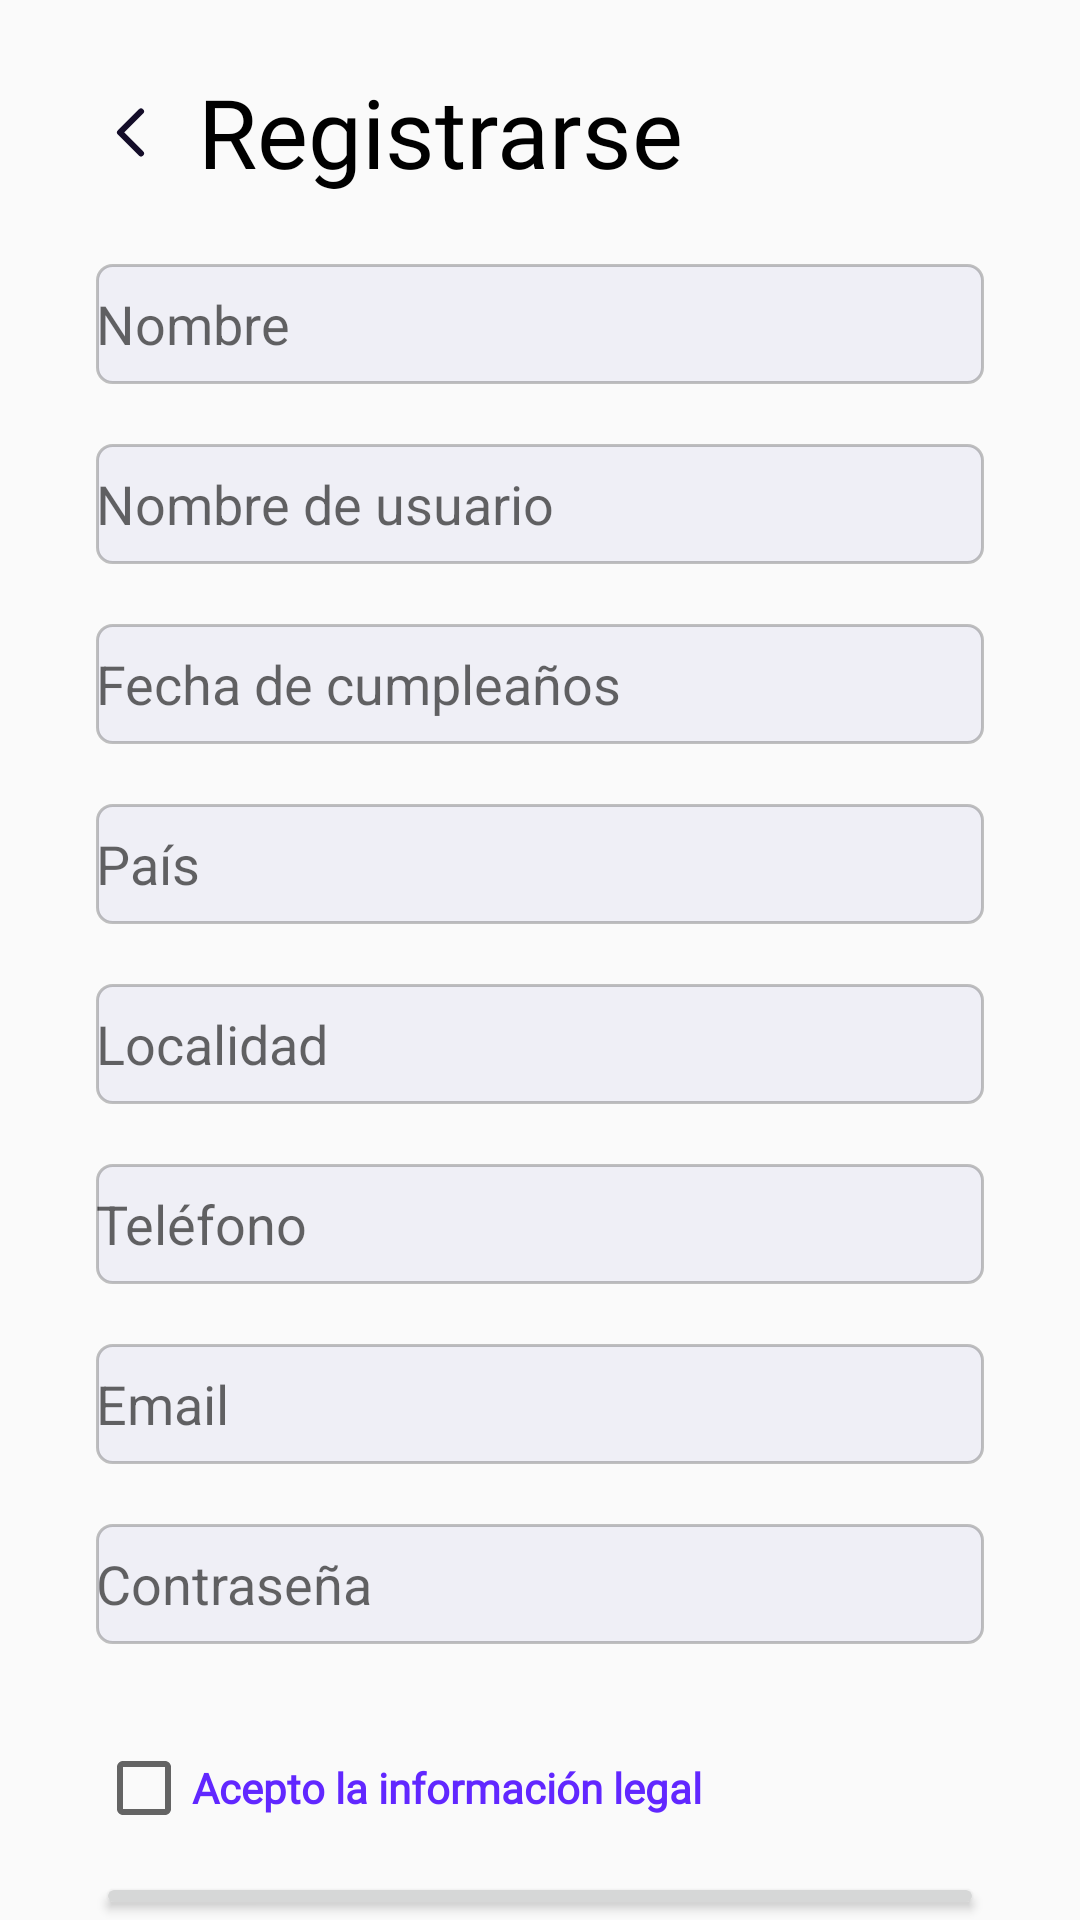

Icons on this 1080px x 1920px Android screen, each with the point to tap as (x,y):
Icono vuelta atras: (130,132)
